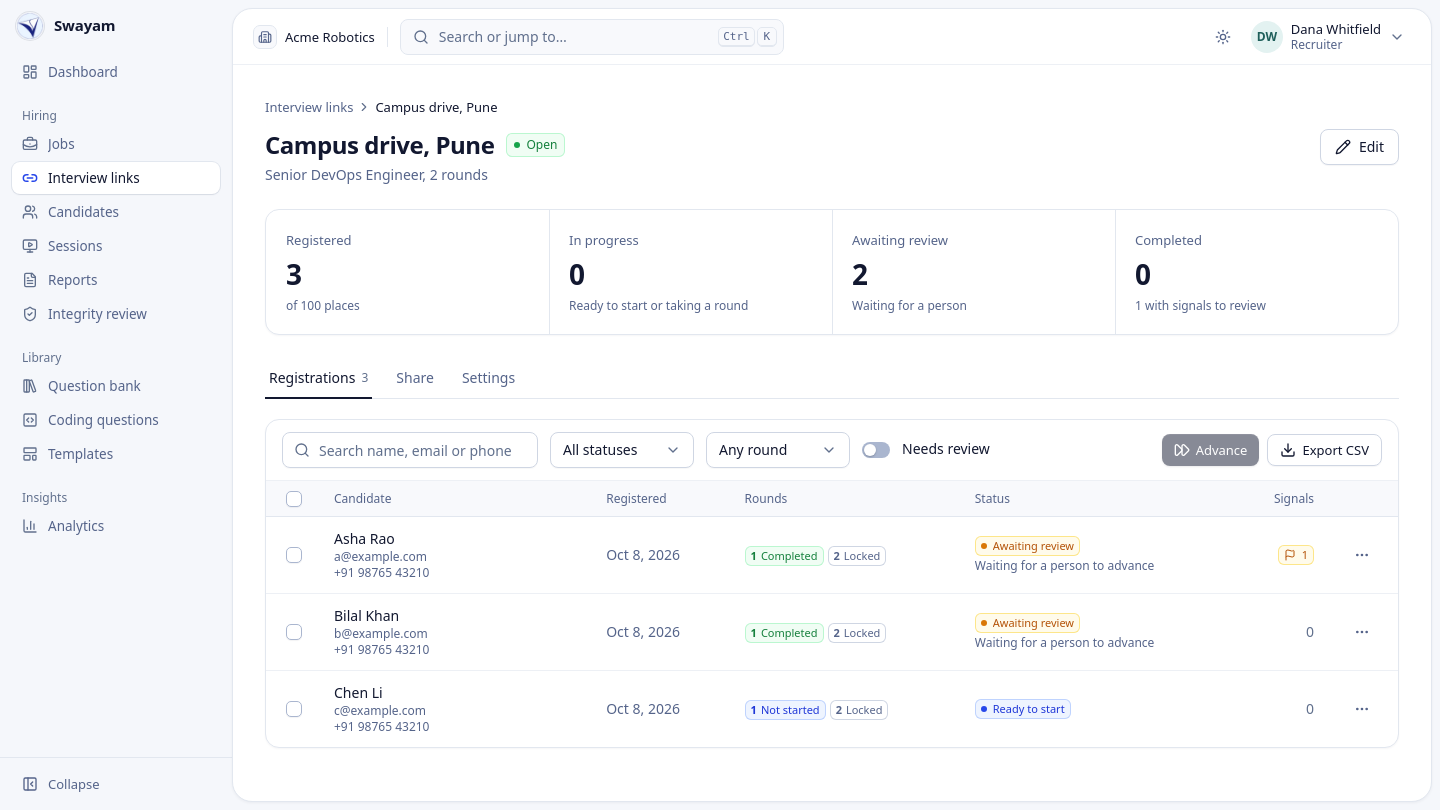
Test: link detail: registrations › bulk-advances only people awaiting review and reports skipped rows
This screenshot has width=1440, height=810.
expect the button with test id "registrations-advance-button" is disabled: met, box [1162,434,1259,466]
What coordinates should you click on to do the following:
click the checkbox with test id "registration-select-a"
I would click on:
 (294, 555)
Its box is [286,547,302,563].
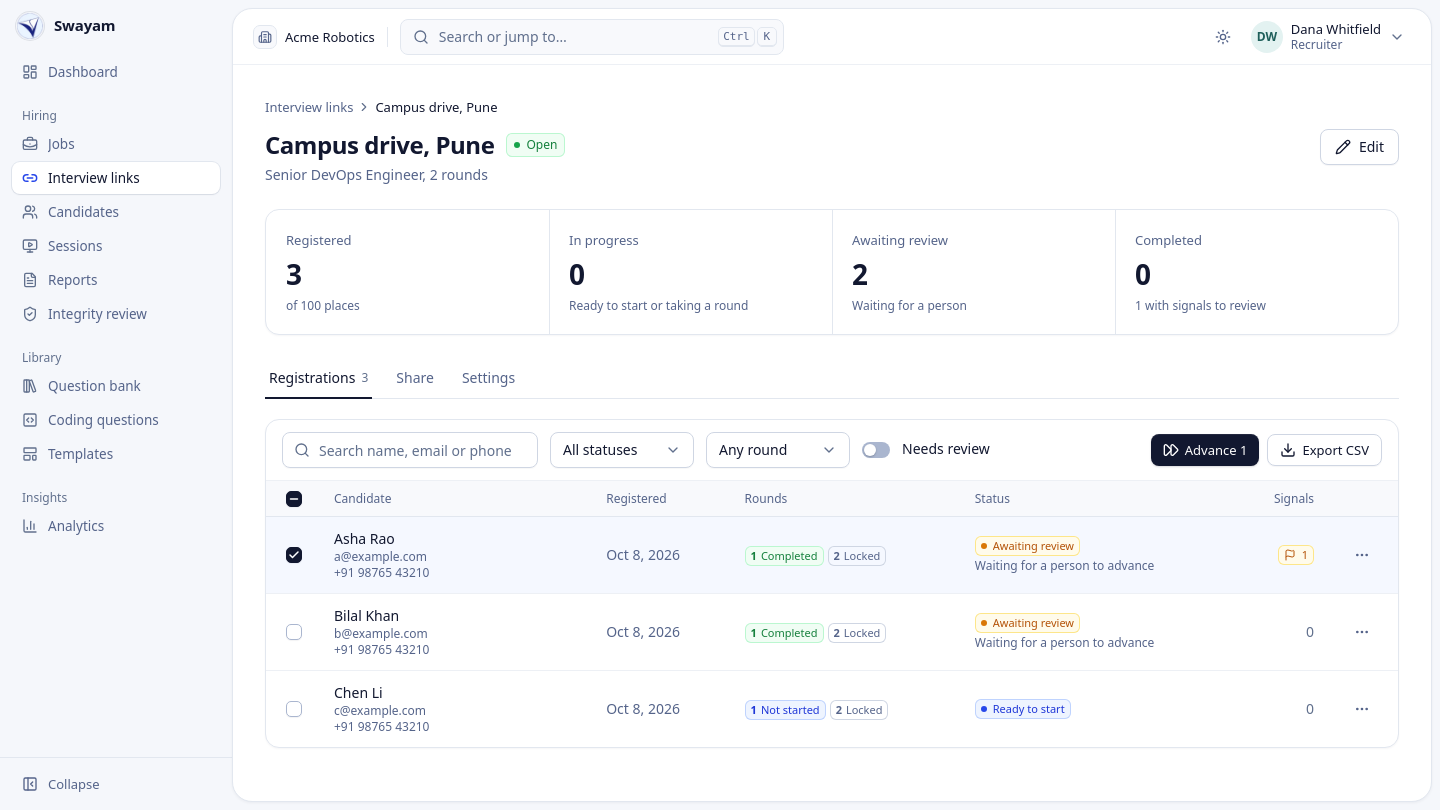
What coordinates should you click on to do the following:
click the checkbox with test id "registration-select-b"
I would click on:
 (294, 632)
Its box is [286,624,302,640].
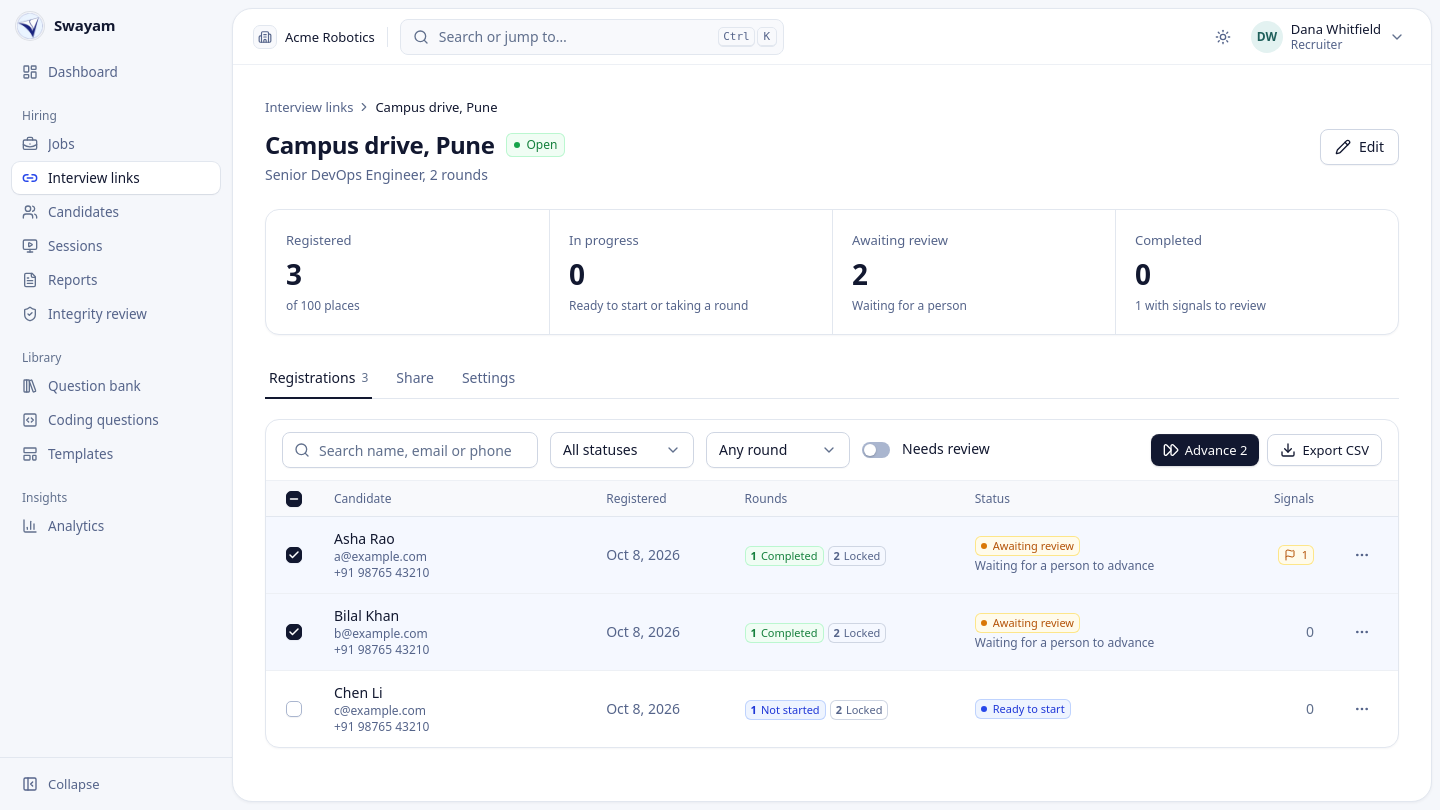
What coordinates should you click on to do the following:
click the checkbox with test id "registration-select-c"
I would click on:
 (294, 709)
Its box is [286,701,302,717].
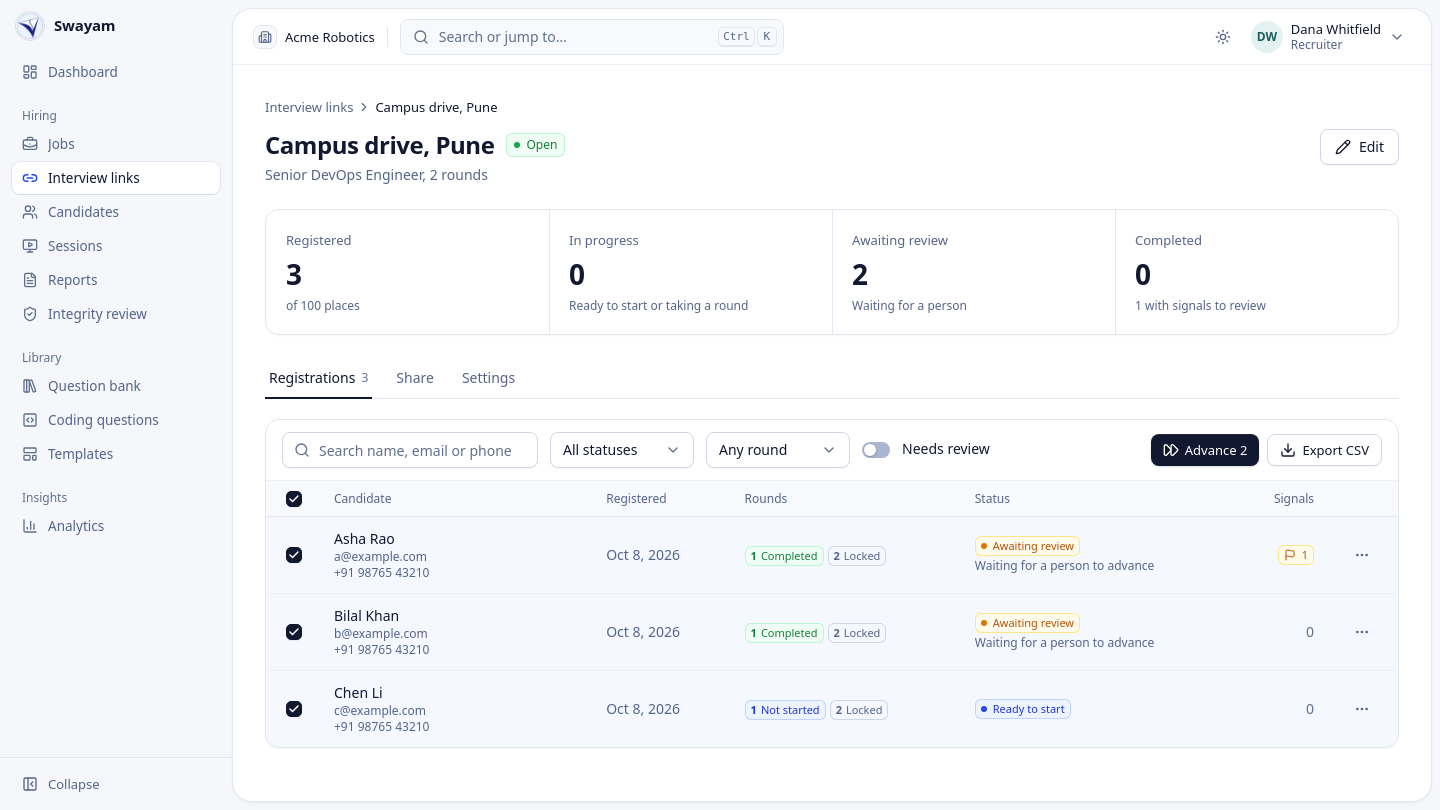
expect the button with test id "registrations-advance-button" is enabled: met
expect the button with test id "registrations-advance-button" reads "Advance 2": met
What coordinates should you click on to do the following:
click the button with test id "registrations-advance-button"
I would click on:
 (1205, 450)
Its box is [1151,434,1259,466].
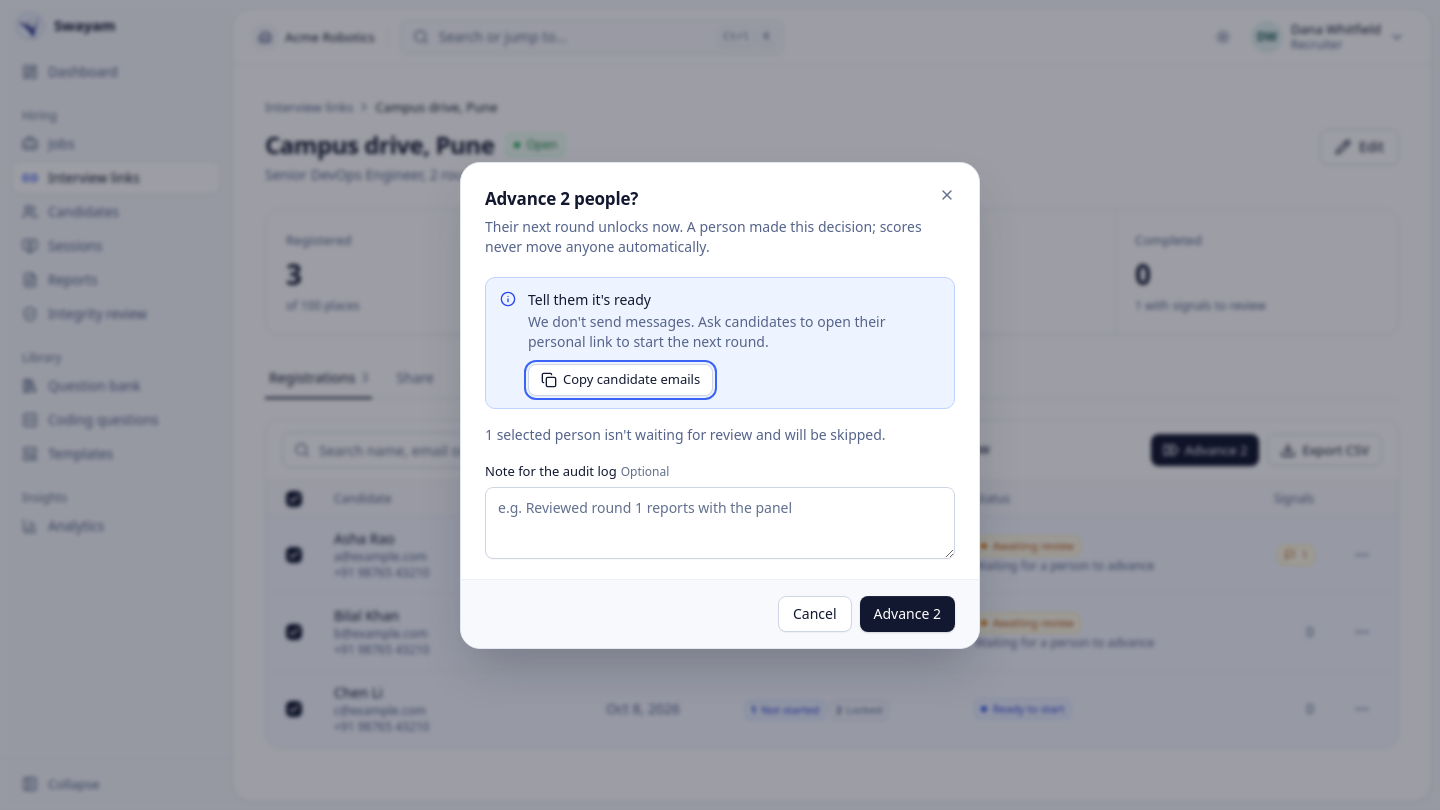
expect the heading "Advance 2 people?" is shown: met, box [485,186,638,210]
expect the text "We don't send messages" is shown: met, box [528,312,886,350]
expect the text "1 selected person isn't waiting" is shown: met, box [485,424,955,444]
What coordinates should you click on to do the following:
click the button with test id "advance-confirm"
I would click on:
 (907, 614)
Its box is [860,596,955,632].
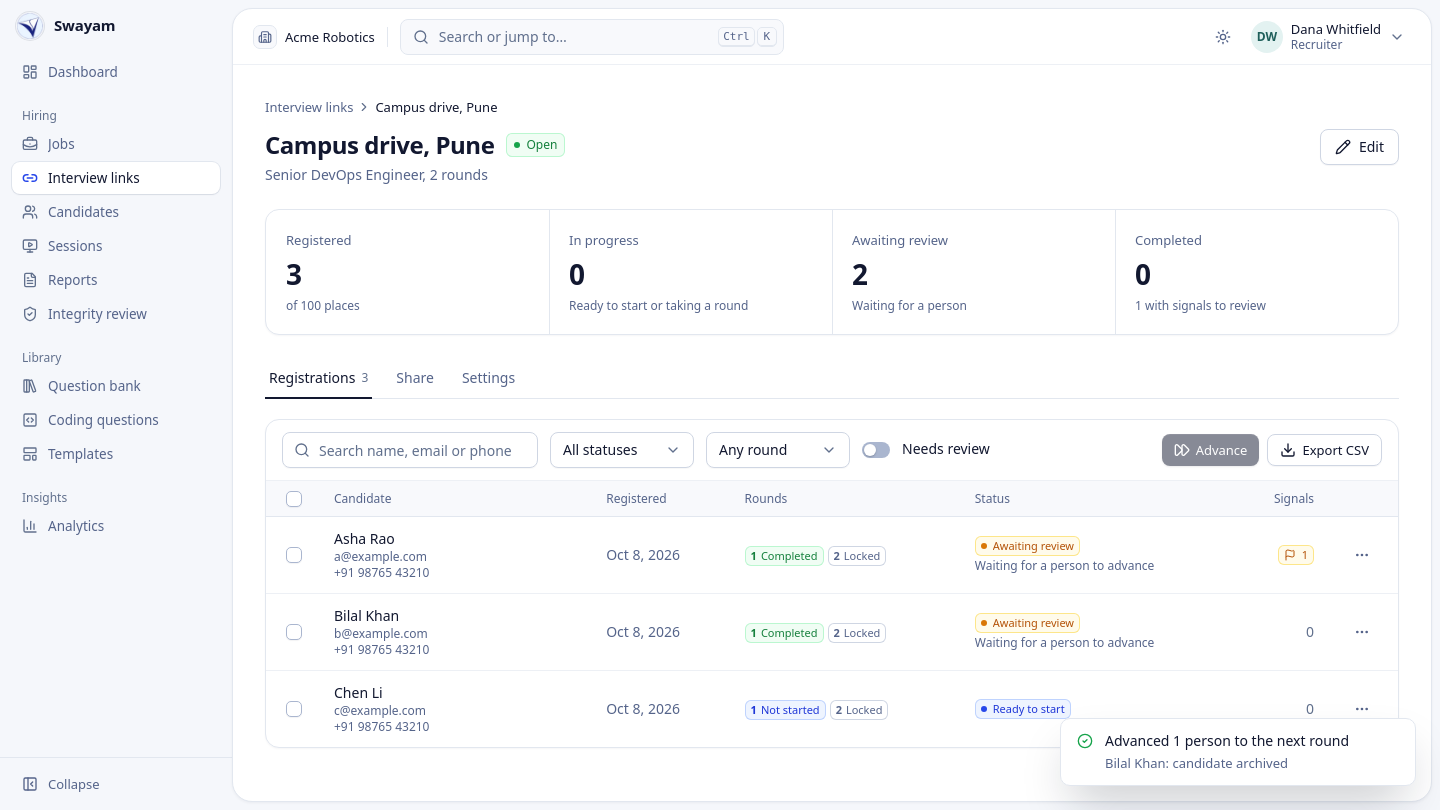
expect the text "Advanced 1 person to the next round" is shown: met, box [1105,731,1349,750]
expect the text "Bilal Khan: candidate archived" is shown: met, box [1105,754,1288,772]
